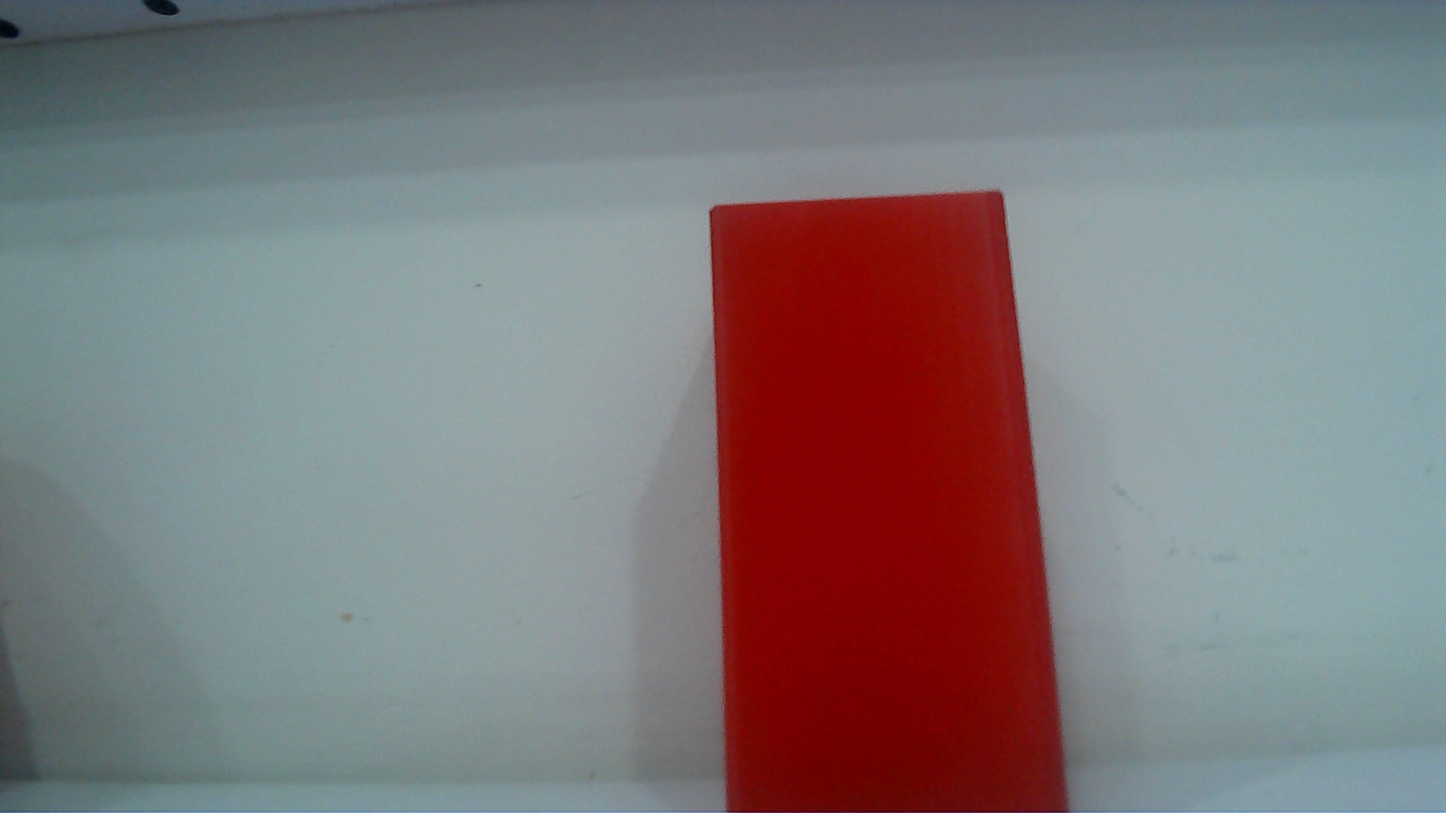red: (679, 159, 1093, 813)
